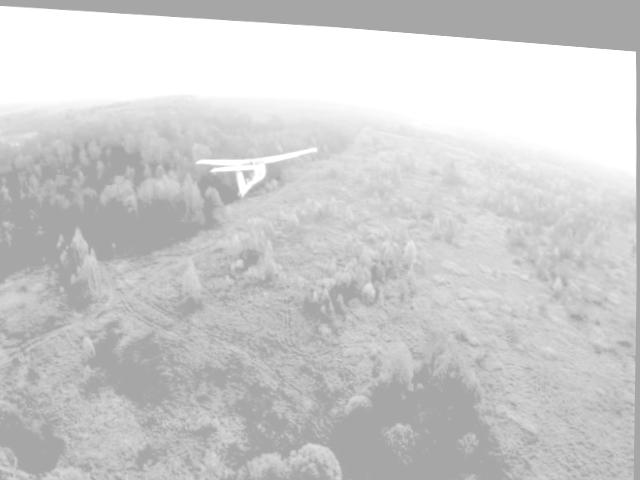hedef: (191, 119, 325, 209)
